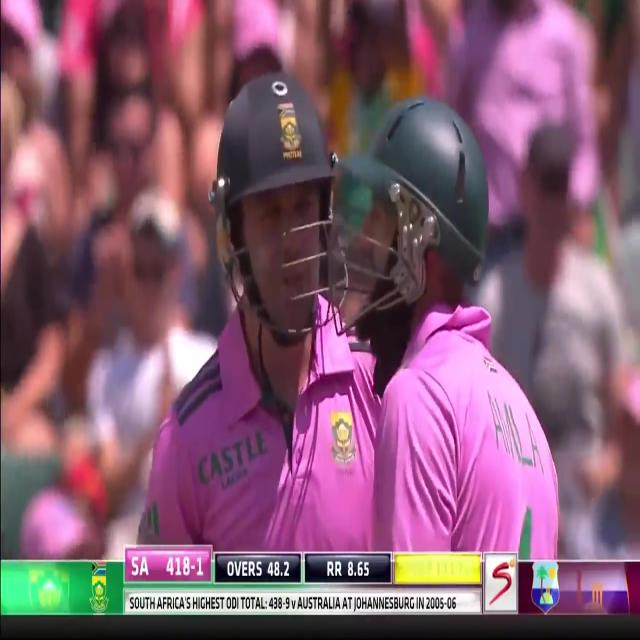Ball: (131, 58, 354, 554), (326, 98, 562, 558)
